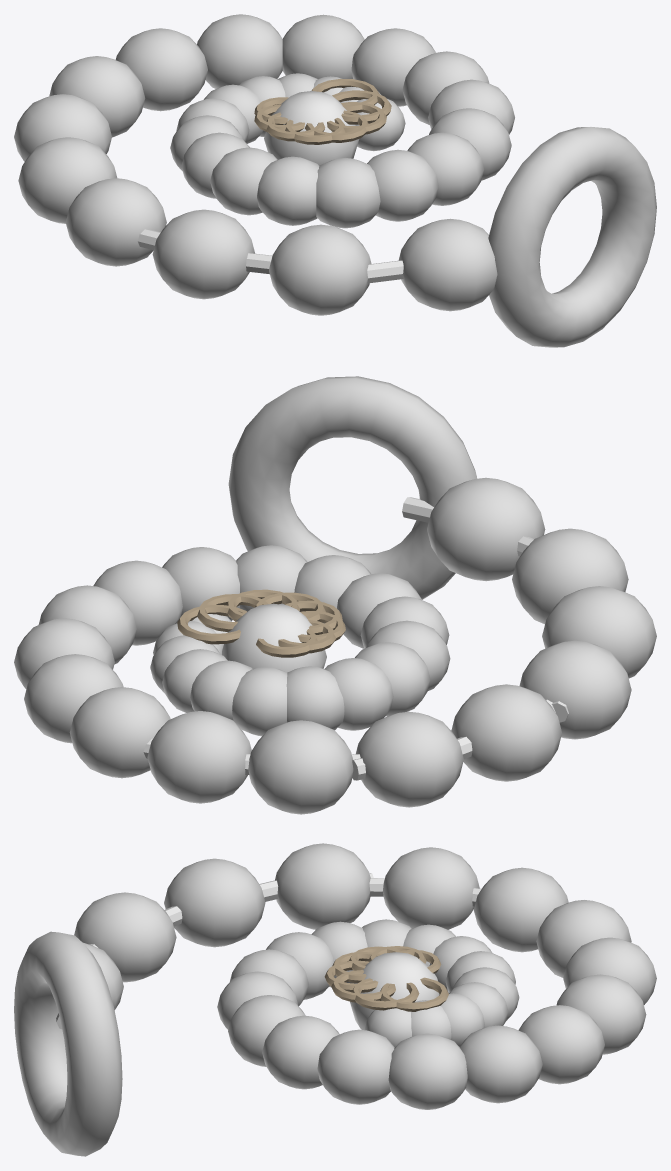
The model's file is ammonite.fbx.
3 views of the same model, one above another, from view 1: azimuth 30°, elevation 25°; view 2: azimuth 150°, elevation 25°; view 3: azimuth 270°, elevation 25° (orthographic). The views are drawn at different scales.
Visible parts, largest first — view 1: ammonite; view 2: ammonite; view 3: ammonite.
Boxes of the visible parts, x1,y1,x2,y2 form: ammonite: [14, 14, 656, 347]; ammonite: [14, 376, 656, 814]; ammonite: [14, 843, 656, 1156].
Size of the model in its own units: 1.35 by 0.58 by 1.63.
